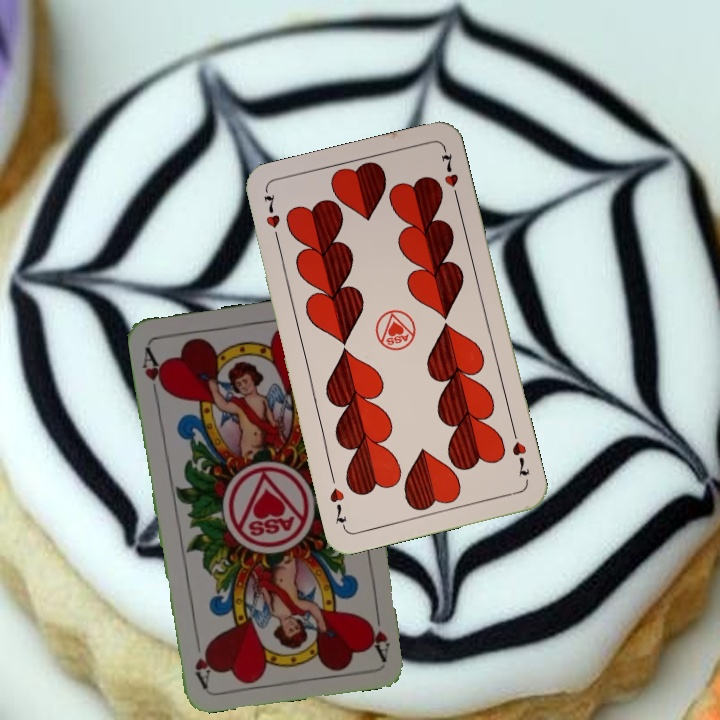H7: (259, 188, 283, 247), (508, 426, 532, 479)
HA: (362, 603, 393, 662), (138, 343, 169, 401)
